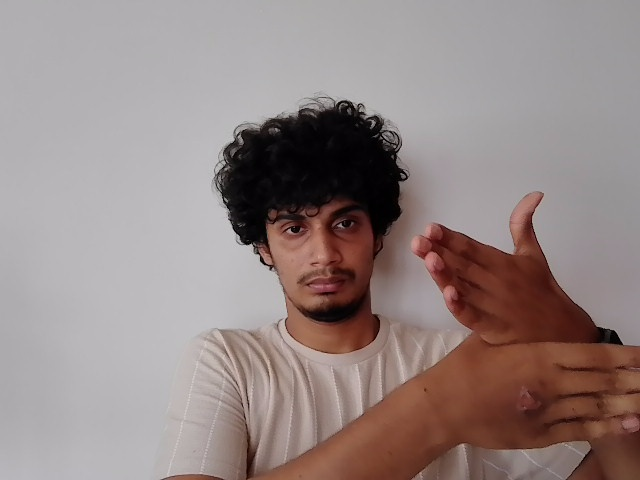busy: (415, 189, 640, 439)
